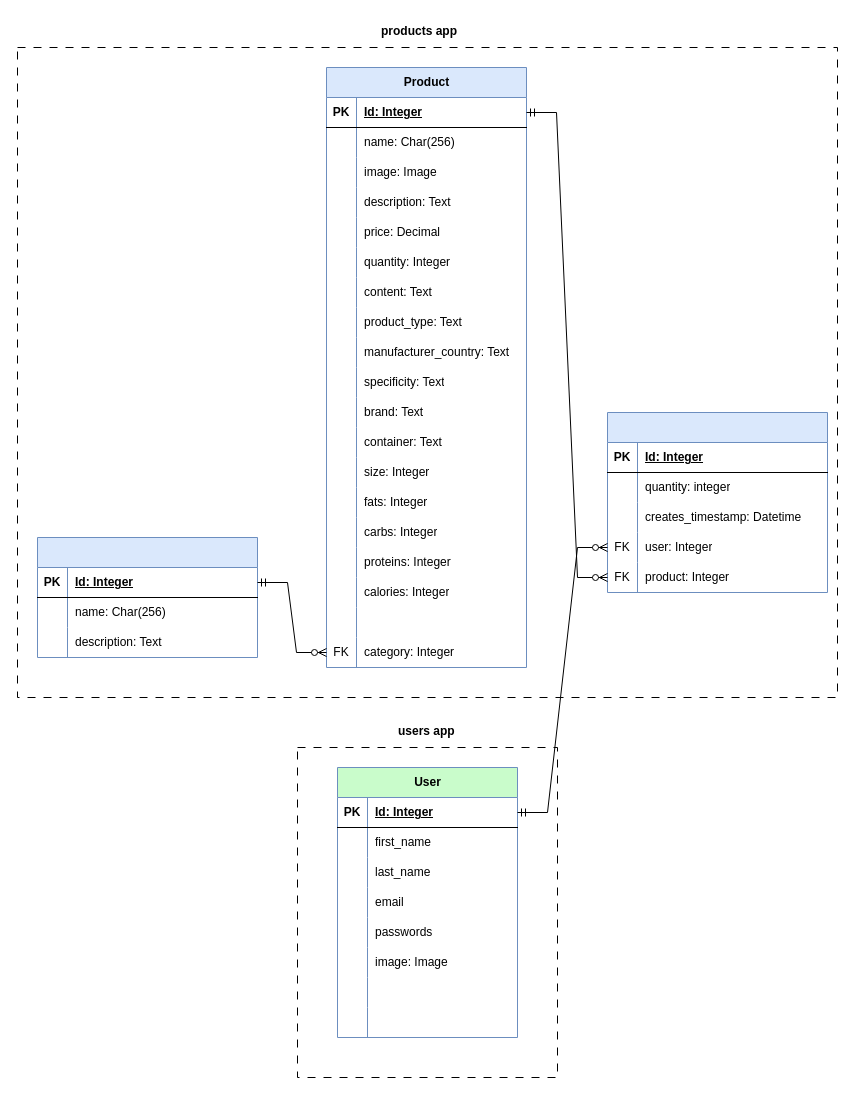
This 855x1095 diagram has some shape labels left out. The box of each missing label's shape, as (x1, y1, x2, y2) in pixels:
Basket: (606, 412, 828, 592)
ProductCategory: (36, 536, 258, 658)
